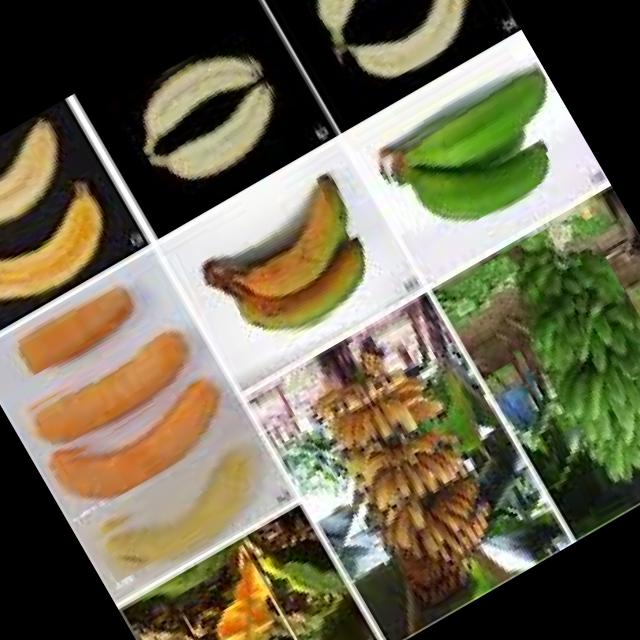Organic: (279, 320, 523, 616), (455, 209, 640, 523), (162, 174, 378, 374), (366, 60, 589, 252), (110, 22, 298, 204), (35, 369, 238, 524), (0, 113, 131, 341), (12, 315, 206, 459), (84, 437, 274, 582), (295, 0, 483, 97), (0, 288, 140, 384)
